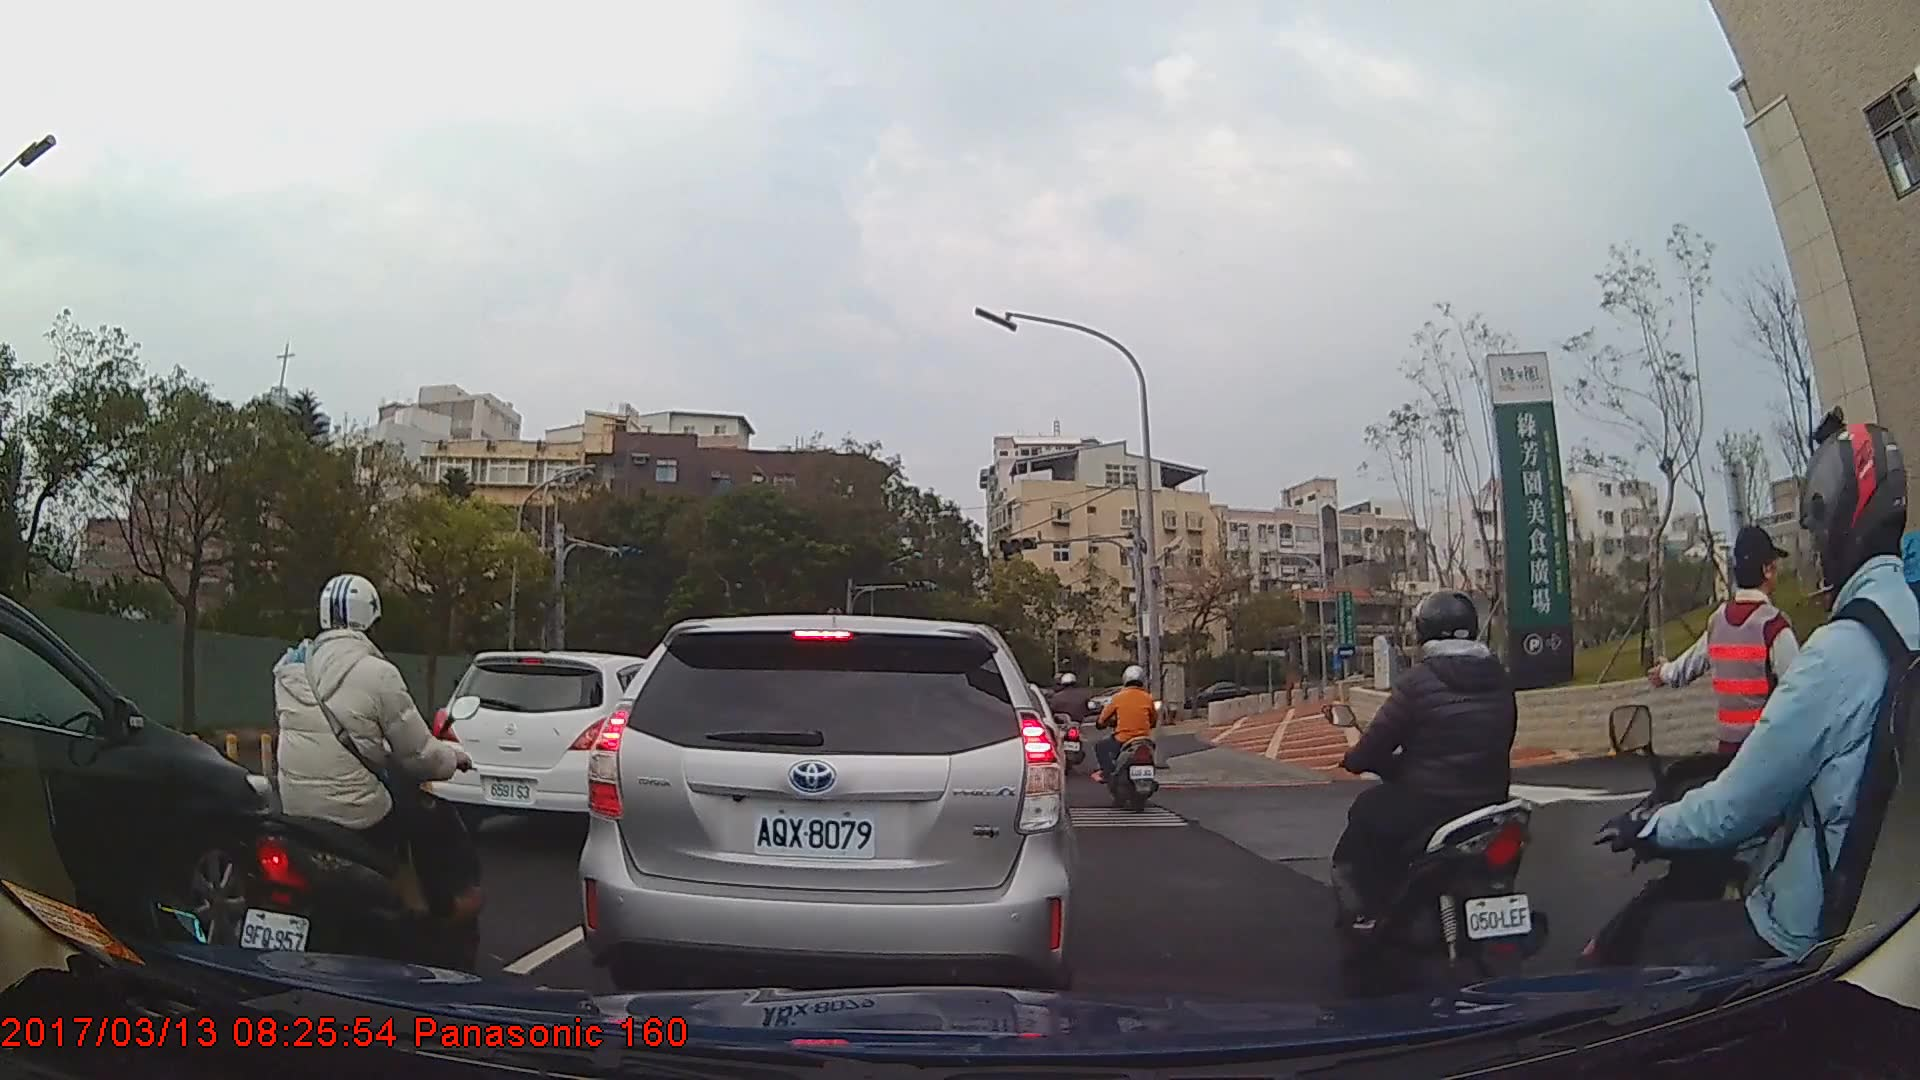rider: (1567, 408, 1920, 1080), (236, 571, 491, 1001), (1334, 585, 1544, 987), (1093, 661, 1163, 810), (1050, 669, 1092, 773)
vehicle: (574, 613, 1076, 991), (0, 590, 293, 964), (429, 648, 679, 839), (1183, 679, 1253, 717)
